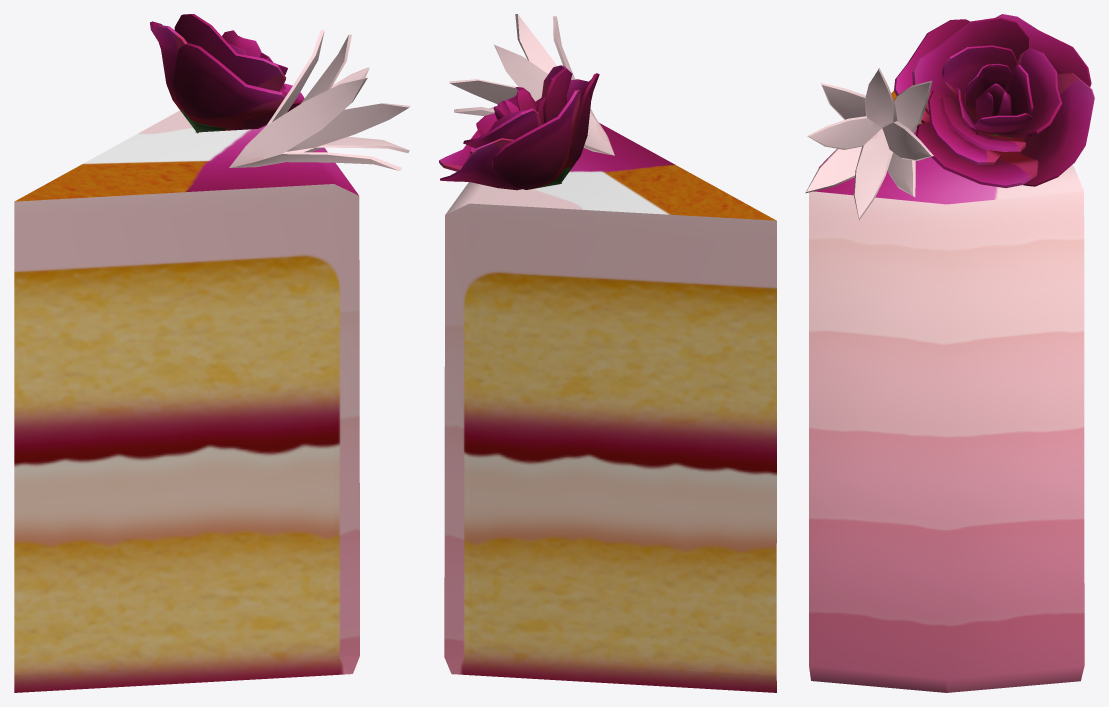
Rendered from Wedding_02_Slice_Top.fbx.
3 views of the same model, side by side, from view 1: azimuth 30°, elevation 25°; view 2: azimuth 150°, elevation 25°; view 3: azimuth 270°, elevation 25° (orthographic). The views are drawn at different scales.
Parts seen in each view (by area): view 1: Wedding_02_Slice_Top; view 2: Wedding_02_Slice_Top; view 3: Wedding_02_Slice_Top.
Boxes of the visible parts, x1=… form: Wedding_02_Slice_Top: x1=14, y1=14, x2=410, y2=692; Wedding_02_Slice_Top: x1=439, y1=14, x2=776, y2=692; Wedding_02_Slice_Top: x1=805, y1=14, x2=1094, y2=692.
Bounding box in the file's own units: 34.74 × 57.28 × 23.9.
